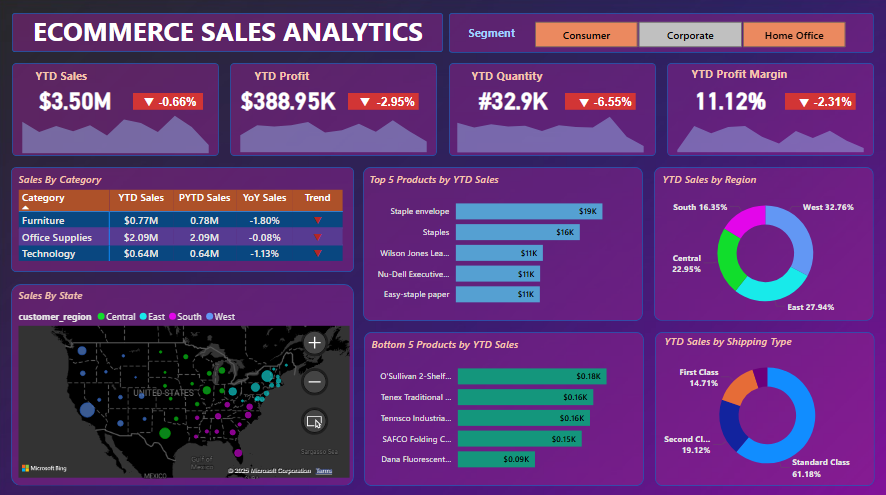

This screenshot's page, from the dashboard's own definition file:
{"tool":"powerbi","page":{"name":"Page 1","canvas":[1280,720],"ordinal":0},"visuals":[{"type":"shape","box":[24.3,20,615.7,55.7],"z":0},{"type":"shape","box":[943.3,475,313.8,220],"z":1000},{"type":"textbox","box":[31.4,14.3,602.9,61.4],"z":2000},{"type":"shape","box":[24.3,91.4,295.7,132.9],"z":2000,"group":"g1"},{"type":"card","fields":{"Values":["ecommerce_data.YTD Sales"]},"box":[31.4,112.8,165.7,61.4],"z":3000,"group":"g1"},{"type":"donutChart","title":"YTD Sales by Shipping Type","fields":{"Y":["ecommerce_data.YTD Sales"],"Category":["ecommerce_data.shipping_type"]},"box":[950.8,478.8,303.8,212.5],"z":3000},{"type":"shape","box":[197.2,134.3,100,24.3],"z":4000,"group":"g1"},{"type":"shape","box":[23.5,240.2,490,150],"z":4000},{"type":"areaChart","fields":{"Category":["Calendar.Month"],"Y":["Sum(ecommerce_data.sales_per_order)"]},"box":[24.3,147.1,295.7,78.6],"z":5000,"group":"g1"},{"type":"shape","box":[23.3,406.7,490,288.3],"z":5000},{"type":"card","fields":{"Values":["ecommerce_data.YoY Sales"]},"box":[220,134.3,81.4,27.1],"z":6000,"group":"g1"},{"type":"pivotTable","title":"Sales By Category","fields":{"Rows":["ecommerce_data.category_name"],"Values":["ecommerce_data.YTD Sales","ecommerce_data.PYTD Sales","ecommerce_data.YoY Sales","ecommerce_data.Sales Icon"]},"box":[28.6,246.9,477.1,136.1],"z":6000},{"type":"card","fields":{"Values":["ecommerce_data.Sales Icon"]},"box":[198.6,134.3,42.9,27.1],"z":7000,"group":"g1"},{"type":"map","title":"Sales By State","fields":{"Y":["us_state_long_lat_codes.latitude"],"X":["us_state_long_lat_codes.longitude"],"Size":["ecommerce_data.YTD Sales"],"Series":["ecommerce_data.customer_region"]},"box":[28.3,413.3,483.3,276.7],"z":7000},{"type":"shape","box":[648.3,20,606.7,56.7],"z":8000},{"type":"textbox","box":[52.9,94.3,100,32.9],"z":8000,"group":"g1"},{"type":"group","id":"g1","title":"Group 1","box":[24.3,91.4,295.7,134.3],"z":9000},{"type":"shape","box":[335.6,91.7,295.7,132.9],"z":9000,"group":"g2"},{"type":"group","id":"g2","title":"Group 2","box":[335.6,91.7,295,133.3],"z":10000},{"type":"shape","box":[648.6,91.7,295.7,132.9],"z":10000,"group":"g3"},{"type":"textbox","box":[671.7,33.3,100,31.7],"z":11000},{"type":"shape","box":[960,91.7,295.7,132.9],"z":11000,"group":"g4"},{"type":"group","id":"g3","title":"Group 3","box":[646.1,91.7,298.3,133.3],"z":12000},{"type":"card","fields":{"Values":["ecommerce_data.YTD Profit"]},"box":[335.6,113.1,165.7,61.4],"z":12000,"group":"g2"},{"type":"group","id":"g4","title":"Group 4","box":[960,91.7,295.7,132.9],"z":13000},{"type":"card","fields":{"Values":["ecommerce_data.YTD Qty Concatenated"]},"box":[657.9,113.5,166.3,60.5],"z":13000,"group":"g3"},{"type":"slicer","fields":{"Values":["ecommerce_data.customer_segment"]},"box":[745,25,493.3,50],"z":14000},{"type":"card","fields":{"Values":["ecommerce_data.YTD Profit Margin"]},"box":[966.7,113.5,166.3,60.5],"z":14000,"group":"g4"},{"type":"shape","box":[504.6,134.7,100.8,23.5],"z":15000,"group":"g2"},{"type":"shape","box":[525,240,399.8,220.1],"z":15000},{"type":"shape","box":[815.1,134.7,100.8,23.5],"z":16000,"group":"g3"},{"type":"shape","box":[526.7,475,399.8,220.1],"z":16000},{"type":"shape","box":[1129,134.7,100.8,23.5],"z":17000,"group":"g4"},{"type":"barChart","title":"Top 5 Products by YTD Sales","fields":{"Category":["ecommerce_data.product_name"],"Y":["ecommerce_data.YTD Sales"]},"box":[529.9,247,386,203.9],"z":17000},{"type":"areaChart","fields":{"Category":["Calendar.Month"],"Y":["Sum(ecommerce_data.profit_per_order)"]},"box":[335.6,146,295.7,78.6],"z":18000,"group":"g2"},{"type":"barChart","title":"Bottom 5 Products by YTD Sales","fields":{"Category":["ecommerce_data.product_name"],"Y":["ecommerce_data.YTD Sales"]},"box":[533,482.8,386,203.9],"z":18000},{"type":"areaChart","fields":{"Category":["Calendar.Month"],"Y":["Sum(ecommerce_data.order_quantity)"]},"box":[646.1,145.5,295.6,79],"z":19000,"group":"g3"},{"type":"shape","box":[941.7,240,313.7,219.8],"z":19000},{"type":"areaChart","fields":{"Category":["Calendar.Month"],"Y":["ecommerce_data.Profit Margin"]},"box":[960,146,295.7,78.6],"z":20000,"group":"g4"},{"type":"donutChart","title":"YTD Sales by Region","fields":{"Category":["ecommerce_data.customer_region"],"Y":["ecommerce_data.YTD Sales"]},"box":[949.1,247.5,303.8,212.5],"z":20000},{"type":"card","fields":{"Values":["ecommerce_data.YoY Profit"]},"box":[531.5,134.7,82.3,26.9],"z":21000,"group":"g2"},{"type":"card","fields":{"Values":["ecommerce_data.YoY Qty"]},"box":[842,134.7,82.3,26.9],"z":22000,"group":"g3"},{"type":"card","fields":{"Values":["ecommerce_data.YoY Profit Margin"]},"box":[1155.9,134.7,82.3,26.9],"z":23000,"group":"g4"},{"type":"card","fields":{"Values":["ecommerce_data.Profit Icon"]},"box":[507,134.6,42.9,27.1],"z":24000,"group":"g2"},{"type":"card","fields":{"Values":["ecommerce_data.Qty Icon"]},"box":[820.8,135.4,43.7,26.9],"z":25000,"group":"g3"},{"type":"card","fields":{"Values":["ecommerce_data.Profit Margin Icon"]},"box":[1134.7,135.4,43.7,26.9],"z":26000,"group":"g4"},{"type":"textbox","box":[365.6,94.6,100,32.9],"z":27000,"group":"g2"},{"type":"textbox","box":[676.3,95.1,136.1,31.9],"z":28000,"group":"g3"},{"type":"textbox","box":[990.2,91.7,162.9,35.3],"z":29000,"group":"g4"}]}

Visuals, with their boxes in screenshot pixels (x1, y1, x2, y2), scaled from the page's 1280x720 canvas onto the 886x495 screenshot:
shape: region(17, 14, 443, 52)
shape: region(653, 327, 870, 478)
textbox: region(22, 10, 439, 52)
shape: region(17, 63, 222, 154)
card - ecommerce_data.YTD Sales: region(22, 78, 136, 120)
"YTD Sales by Shipping Type" donutChart: region(658, 329, 868, 475)
shape: region(136, 92, 206, 109)
shape: region(16, 165, 355, 268)
areaChart - Calendar.Month x Sum(ecommerce_data.sales_per_order): region(17, 101, 222, 155)
shape: region(16, 280, 355, 478)
card - ecommerce_data.YoY Sales: region(152, 92, 209, 111)
"Sales By Category" pivotTable: region(20, 170, 350, 263)
card - ecommerce_data.Sales Icon: region(137, 92, 167, 111)
"Sales By State" map: region(20, 284, 354, 474)
shape: region(449, 14, 869, 53)
textbox: region(37, 65, 106, 87)
"Group 1" group: region(17, 63, 222, 155)
shape: region(232, 63, 437, 154)
"Group 2" group: region(232, 63, 436, 155)
shape: region(449, 63, 654, 154)
textbox: region(465, 23, 534, 45)
shape: region(664, 63, 869, 154)
"Group 3" group: region(447, 63, 654, 155)
card - ecommerce_data.YTD Profit: region(232, 78, 347, 120)
"Group 4" group: region(664, 63, 869, 154)
card - ecommerce_data.YTD Qty Concatenated: region(455, 78, 571, 120)
slicer - ecommerce_data.customer_segment: region(516, 17, 857, 52)
card - ecommerce_data.YTD Profit Margin: region(669, 78, 784, 120)
shape: region(349, 93, 419, 109)
shape: region(363, 165, 640, 316)
shape: region(564, 93, 634, 109)
shape: region(365, 327, 641, 478)
shape: region(781, 93, 851, 109)
"Top 5 Products by YTD Sales" barChart: region(367, 170, 634, 310)
areaChart - Calendar.Month x Sum(ecommerce_data.profit_per_order): region(232, 100, 437, 154)
"Bottom 5 Products by YTD Sales" barChart: region(369, 332, 636, 472)
areaChart - Calendar.Month x Sum(ecommerce_data.order_quantity): region(447, 100, 652, 154)
shape: region(652, 165, 869, 316)
areaChart - Calendar.Month x ecommerce_data.Profit Margin: region(664, 100, 869, 154)
"YTD Sales by Region" donutChart: region(657, 170, 867, 316)
card - ecommerce_data.YoY Profit: region(368, 93, 425, 111)
card - ecommerce_data.YoY Qty: region(583, 93, 640, 111)
card - ecommerce_data.YoY Profit Margin: region(800, 93, 857, 111)
card - ecommerce_data.Profit Icon: region(351, 93, 381, 111)
card - ecommerce_data.Qty Icon: region(568, 93, 598, 112)
card - ecommerce_data.Profit Margin Icon: region(785, 93, 816, 112)
textbox: region(253, 65, 322, 88)
textbox: region(468, 65, 562, 87)
textbox: region(685, 63, 798, 87)
